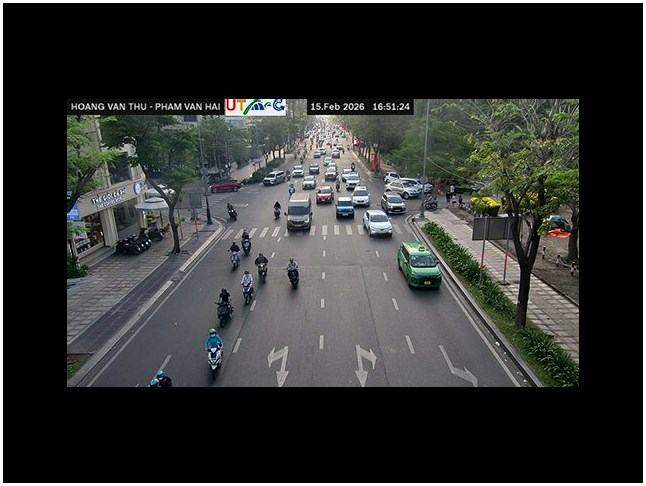car: (361, 209, 394, 238), (381, 193, 407, 215), (208, 178, 242, 192), (352, 187, 370, 208), (315, 186, 334, 204), (335, 202, 355, 219), (263, 171, 285, 186)
motorbike: (215, 300, 234, 330), (286, 258, 300, 291)
truck: (286, 195, 313, 232)
